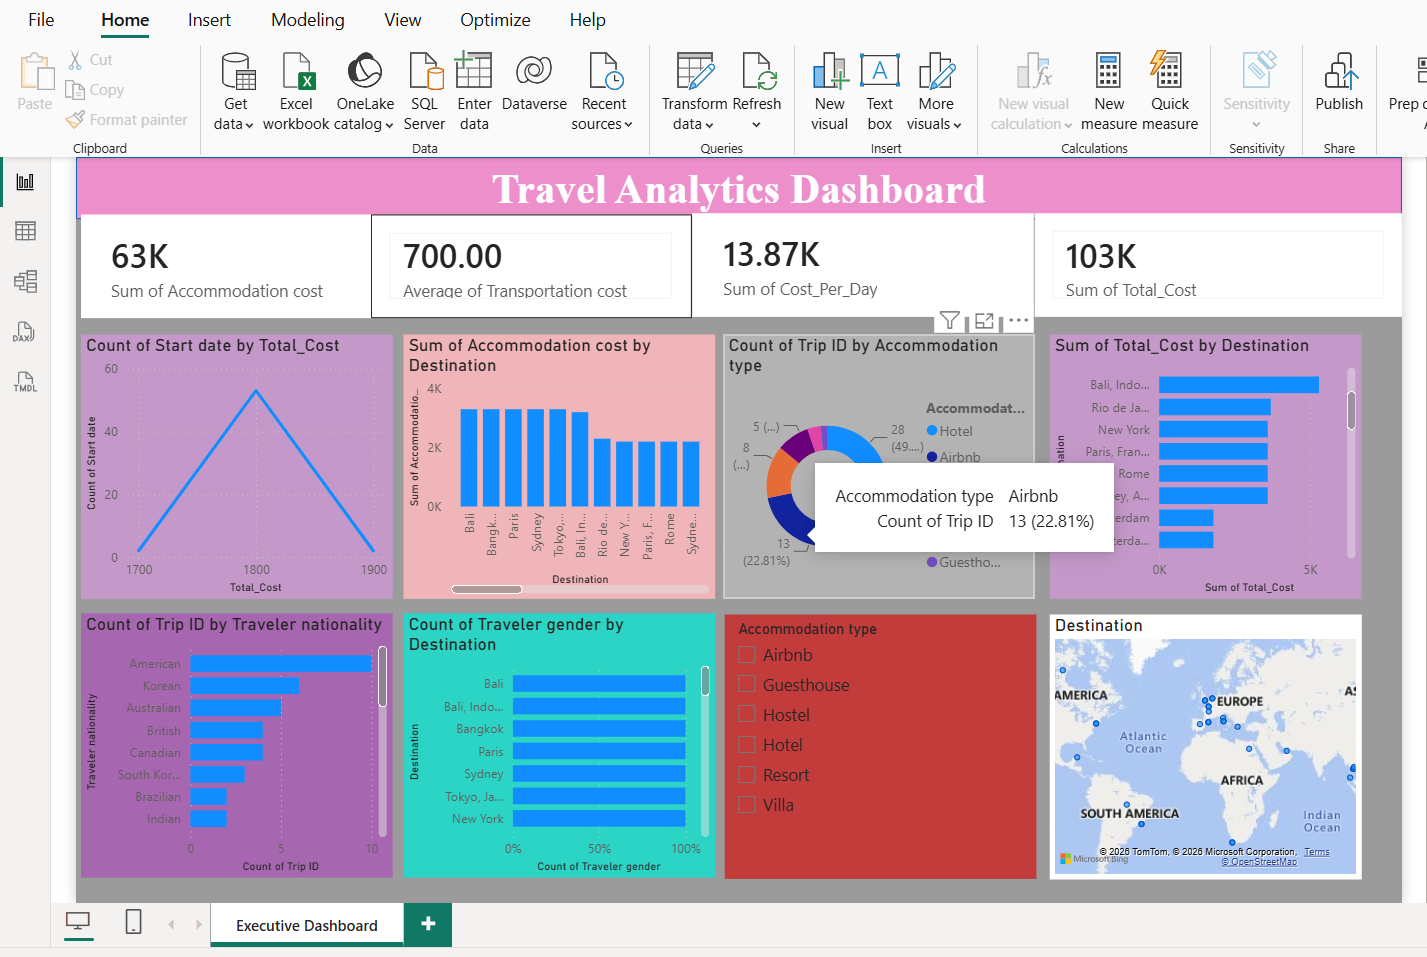

This screenshot's page, from the dashboard's own definition file:
{"tool":"powerbi","page":{"name":"Executive Dashboard","canvas":[1280,720],"ordinal":0},"visuals":[{"type":"shape","box":[0,0,1279.8,60],"z":0},{"type":"cardVisual","fields":{"Data":["Sum(Travel_Dataset_Cleaned.Accommodation cost)"]},"box":[5,55,282.1,100],"z":1000},{"type":"cardVisual","fields":{"Data":["Avg(Travel_Dataset_Cleaned.Transportation cost)"]},"box":[285,55,309.5,100],"z":2000},{"type":"cardVisual","fields":{"Data":["Sum(Travel_Dataset_Cleaned.Cost_Per_Day)"]},"box":[595.2,54.8,329.8,100],"z":3000},{"type":"cardVisual","fields":{"Data":["Sum(Travel_Dataset_Cleaned.Total_Cost)"]},"box":[925,54.8,354.8,100],"z":4000},{"type":"lineChart","fields":{"Category":["Travel_Dataset_Cleaned.Total_Cost"],"Y":["CountNonNull(Travel_Dataset_Cleaned.Start date)"]},"box":[4.8,171.3,300.4,255],"z":5000},{"type":"clusteredColumnChart","fields":{"Category":["Travel_Dataset_Cleaned.Destination"],"Y":["Sum(Travel_Dataset_Cleaned.Accommodation cost)"]},"box":[316.1,171.3,300.4,255],"z":6000},{"type":"donutChart","fields":{"Category":["Travel_Dataset_Cleaned.Accommodation type"],"Y":["CountNonNull(Travel_Dataset_Cleaned.Trip ID)"]},"box":[624.9,171.3,300.4,255],"z":7000},{"type":"clusteredBarChart","fields":{"Category":["Travel_Dataset_Cleaned.Destination"],"Y":["Sum(Travel_Dataset_Cleaned.Total_Cost)"]},"box":[939.8,171.3,300.4,255],"z":8000},{"type":"clusteredBarChart","fields":{"Category":["Travel_Dataset_Cleaned.Traveler nationality"],"Y":["CountNonNull(Travel_Dataset_Cleaned.Trip ID)"]},"box":[4.8,440.4,300.4,255],"z":9000},{"type":"hundredPercentStackedBarChart","fields":{"Category":["Travel_Dataset_Cleaned.Destination"],"Y":["CountNonNull(Travel_Dataset_Cleaned.Traveler gender)"]},"box":[316.1,440.4,300.4,255],"z":10000},{"type":"slicer","fields":{"Values":["Travel_Dataset_Cleaned.Accommodation type"]},"box":[626.1,441.6,300.4,255],"z":11000},{"type":"map","fields":{"Category":["Travel_Dataset_Cleaned.Destination"]},"box":[939.8,441.6,300.4,255],"z":12000}]}

Visuals, with their boxes in screenshot pixels (x1, y1, x2, y2):
shape: box=[71, 152, 1426, 216]
cardVisual - Sum(Travel_Dataset_Cleaned.Accommodation cost): box=[76, 211, 375, 317]
cardVisual - Avg(Travel_Dataset_Cleaned.Transportation cost): box=[373, 211, 701, 317]
cardVisual - Sum(Travel_Dataset_Cleaned.Cost_Per_Day): box=[702, 210, 1052, 317]
cardVisual - Sum(Travel_Dataset_Cleaned.Total_Cost): box=[1052, 210, 1426, 317]
lineChart - Travel_Dataset_Cleaned.Total_Cost x CountNonNull(Travel_Dataset_Cleaned.Start date): box=[76, 334, 394, 604]
clusteredColumnChart - Travel_Dataset_Cleaned.Destination x Sum(Travel_Dataset_Cleaned.Accommodation cost): box=[406, 334, 724, 604]
donutChart - Travel_Dataset_Cleaned.Accommodation type x CountNonNull(Travel_Dataset_Cleaned.Trip ID): box=[733, 334, 1052, 604]
clusteredBarChart - Travel_Dataset_Cleaned.Destination x Sum(Travel_Dataset_Cleaned.Total_Cost): box=[1067, 334, 1386, 604]
clusteredBarChart - Travel_Dataset_Cleaned.Traveler nationality x CountNonNull(Travel_Dataset_Cleaned.Trip ID): box=[76, 619, 394, 890]
hundredPercentStackedBarChart - Travel_Dataset_Cleaned.Destination x CountNonNull(Travel_Dataset_Cleaned.Traveler gender): box=[406, 619, 724, 890]
slicer - Travel_Dataset_Cleaned.Accommodation type: box=[735, 621, 1053, 891]
map - Travel_Dataset_Cleaned.Destination: box=[1067, 621, 1386, 891]
